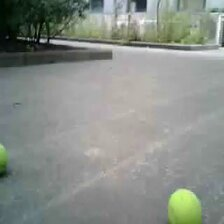tennis: (167, 187, 203, 224)
